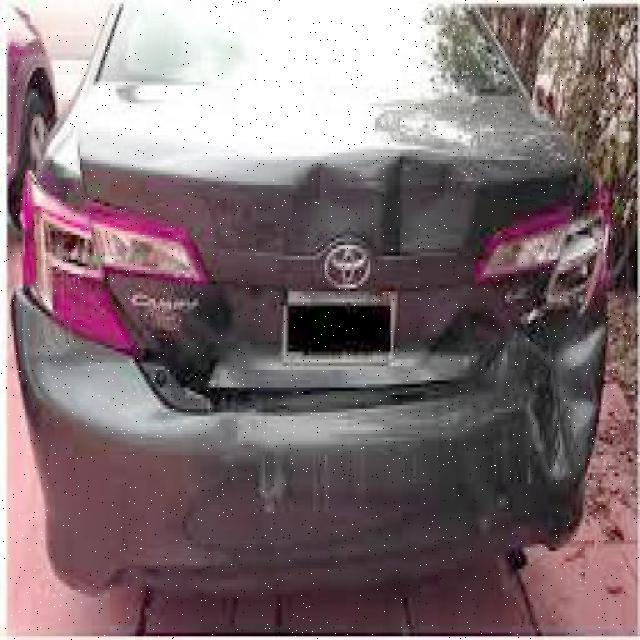car damage: (110, 278, 498, 437), (429, 288, 608, 553), (280, 156, 470, 274)
